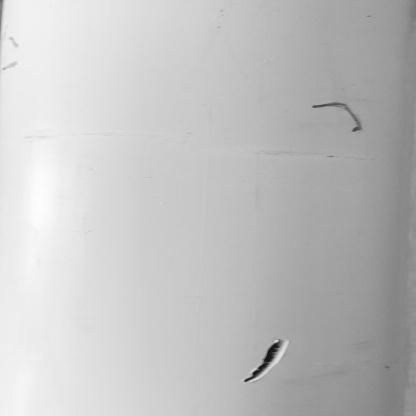fengxi: (311, 96, 371, 136)
kongdong: (235, 332, 292, 385)
